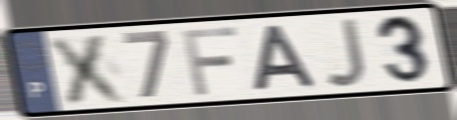3: (374, 12, 437, 88)
7: (119, 28, 175, 103)
A: (249, 23, 321, 94)
F: (180, 25, 241, 98)
J: (322, 16, 369, 90)
X: (44, 30, 133, 107)
